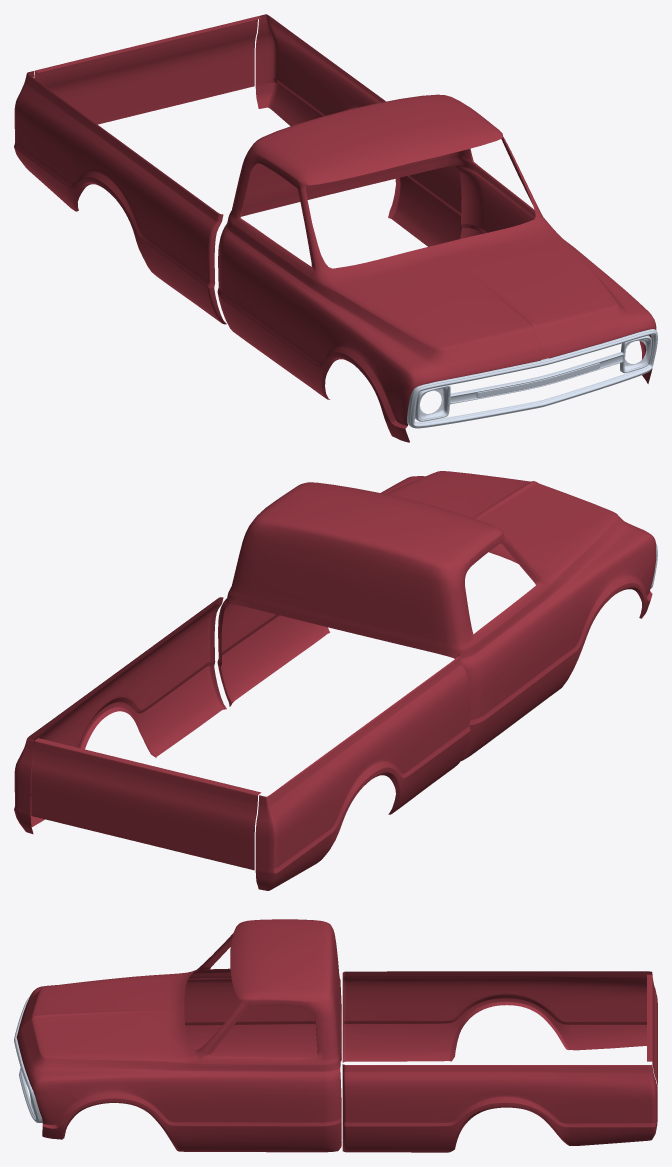
The model's file is car_pickup.glb.
The picture shows the model from 3 angles, top to bottom: view 1: azimuth 30°, elevation 25°; view 2: azimuth 150°, elevation 25°; view 3: azimuth 270°, elevation 25°; orthographic projection. The views are drawn at different scales.
Visible parts, largest first — view 1: body; view 2: body; view 3: body.
Part boxes in pixels (<box>): body: <box>14,14,657,442</box>; body: <box>14,471,657,890</box>; body: <box>14,919,657,1152</box>.
Size of the model in its own units: 2.04 by 1.42 by 5.31.
